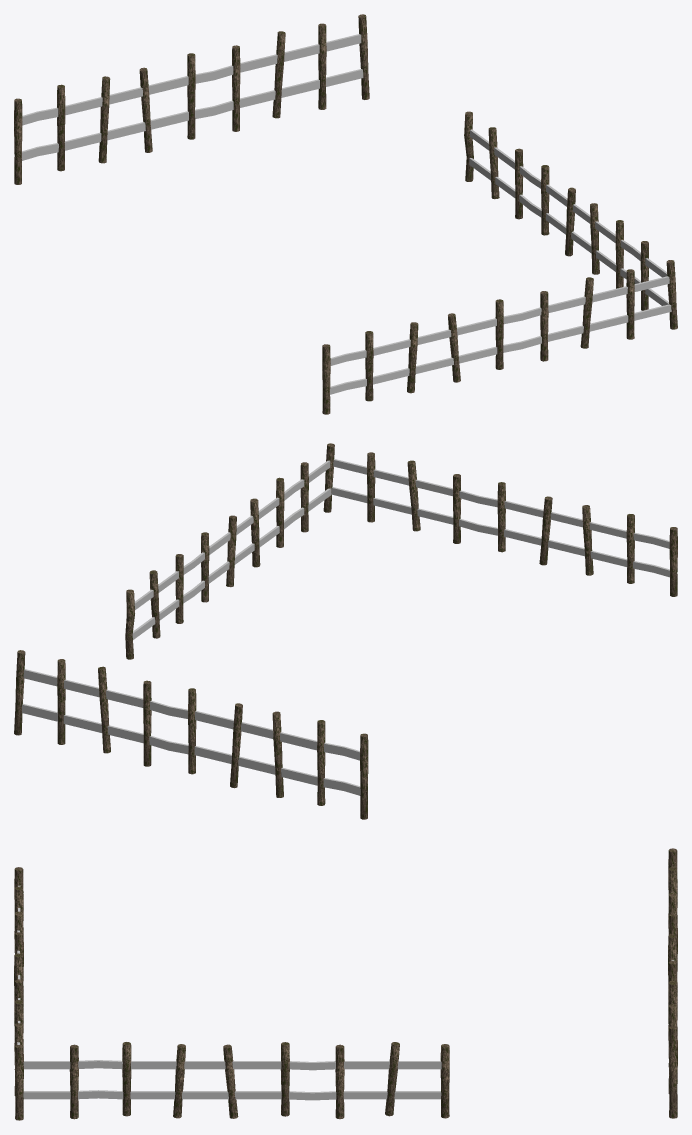
Rendered from fence_2F_house1.FBX.
3 renders of one model, top to bottom at view 1: azimuth 30°, elevation 25°; view 2: azimuth 150°, elevation 25°; view 3: azimuth 270°, elevation 25°, orthographic. The views are drawn at different scales.
Parts seen in each view (by area): view 1: Object802; view 2: Object802; view 3: Object802.
Part boxes in pixels (<box>): Object802: <box>14,14,677,414</box>; Object802: <box>14,443,677,819</box>; Object802: <box>14,848,677,1120</box>.
Bounding box in the file's own units: 1024 × 245 × 1563.
